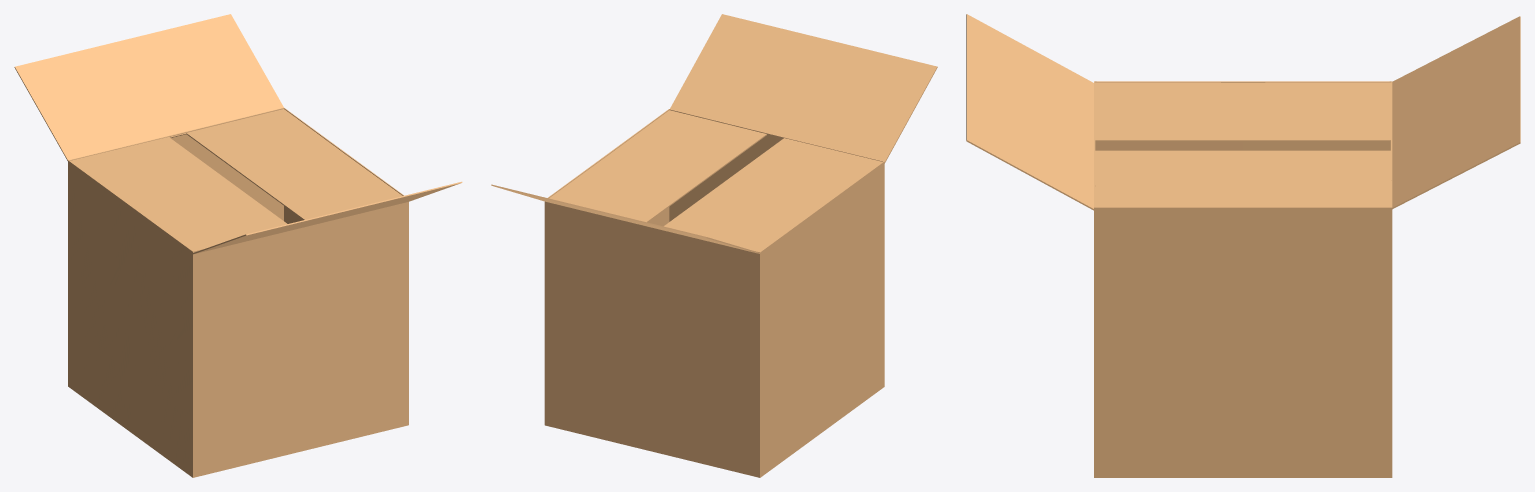
The model's file is Dont Look Up Box.fbx.
3 renders of one model, left to right at view 1: azimuth 30°, elevation 25°; view 2: azimuth 150°, elevation 25°; view 3: azimuth 270°, elevation 25°, orthographic. The views are drawn at different scales.
Visible parts, largest first — view 1: Cube.004; view 2: Cube.004; view 3: Cube.004.
Part boxes in pixels (<box>): Cube.004: <box>14,14,462,477</box>; Cube.004: <box>491,14,937,477</box>; Cube.004: <box>966,14,1520,477</box>.
Bounding box in the file's own units: 4328 × 5407 × 8044.
